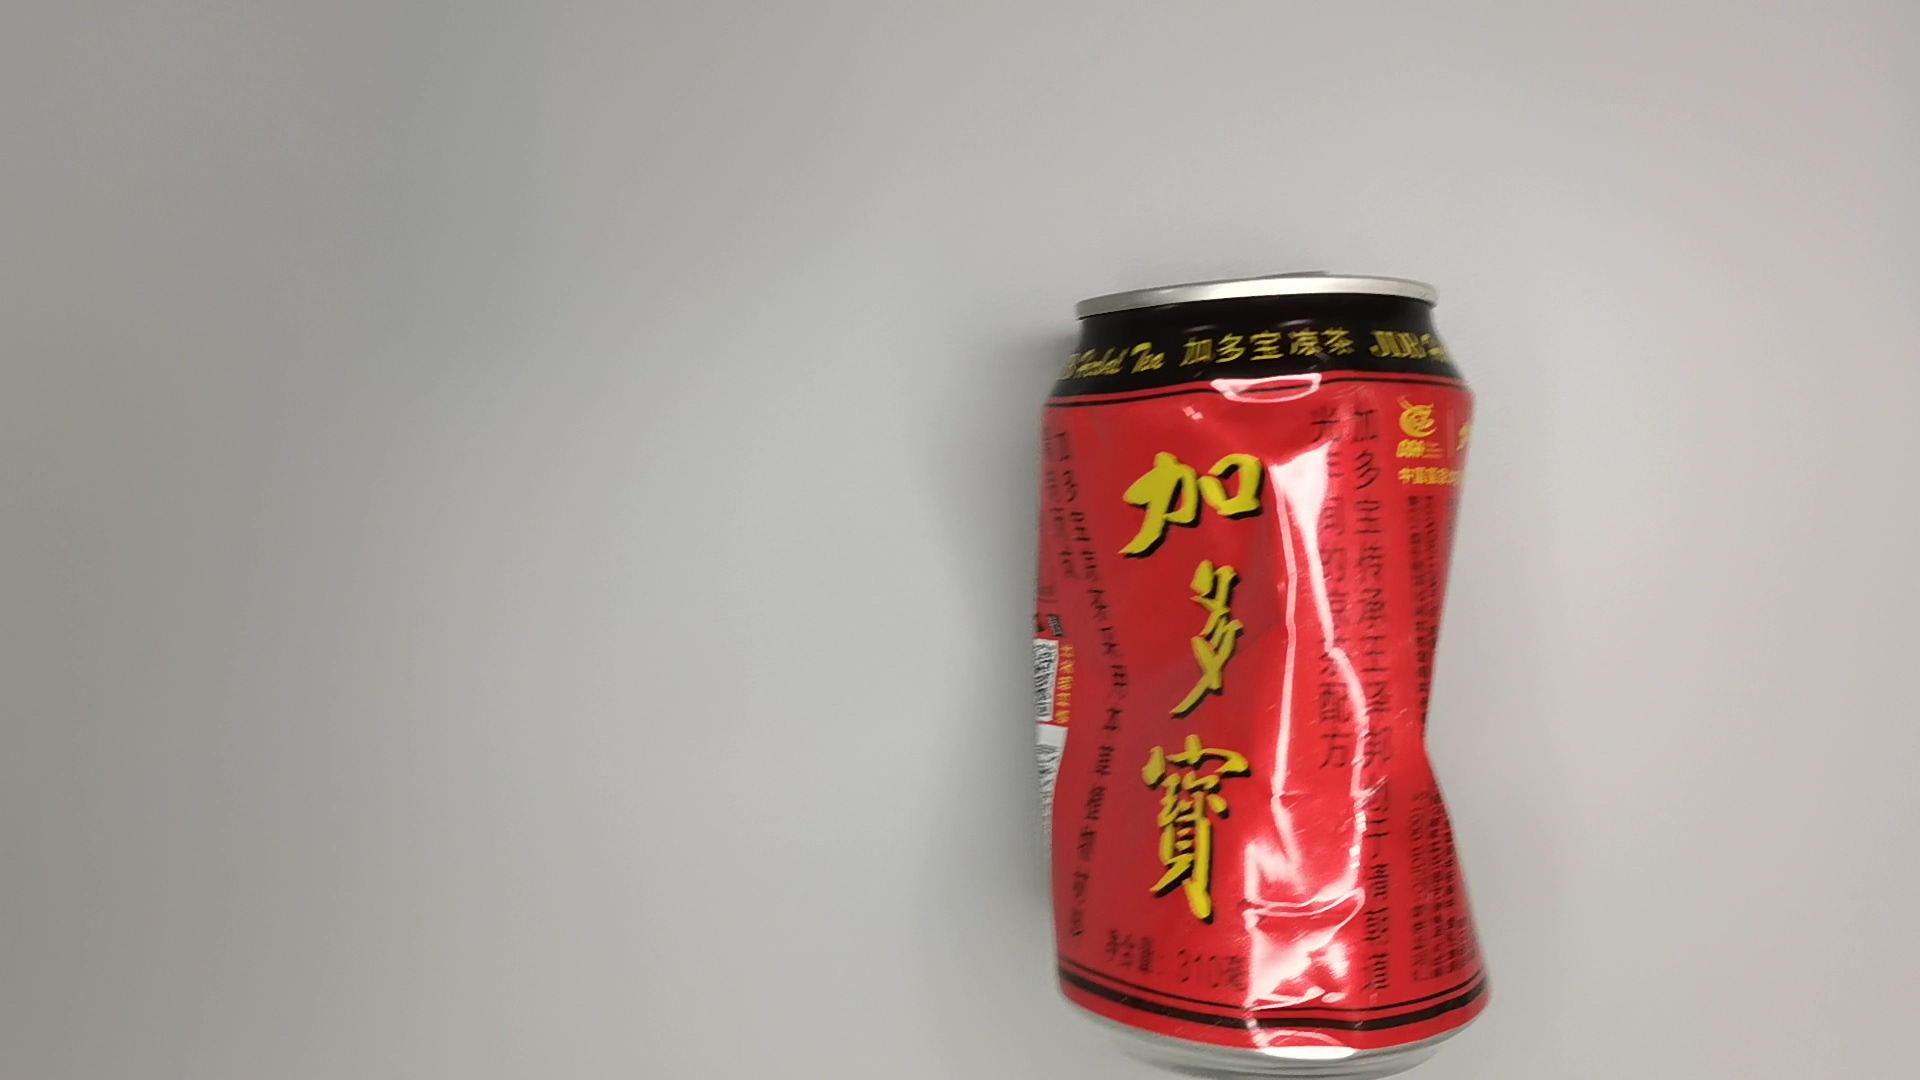can: (1019, 260, 1527, 1080)
